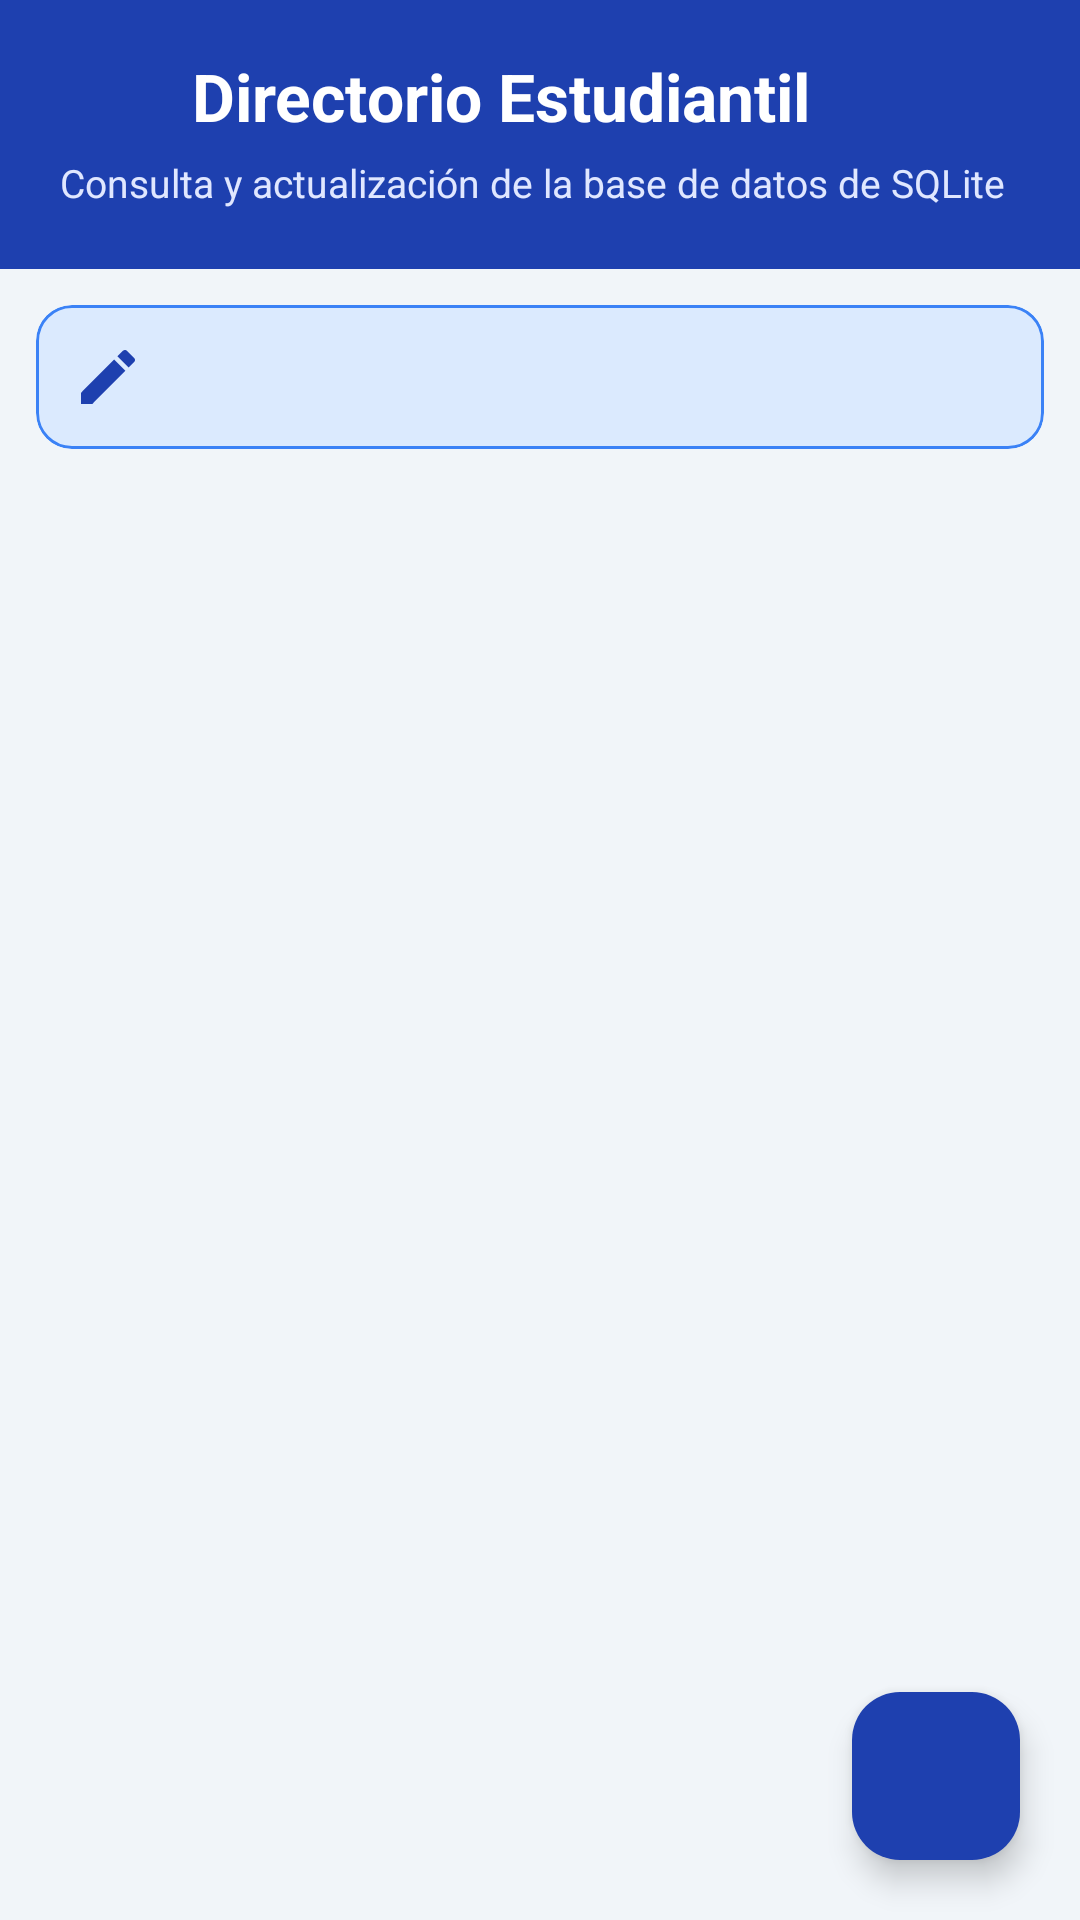

Icons on this 1080×1920 Android screen, each with its box as rect(x1, y1, x2, y2):
edit: rect(81, 350, 135, 404)
